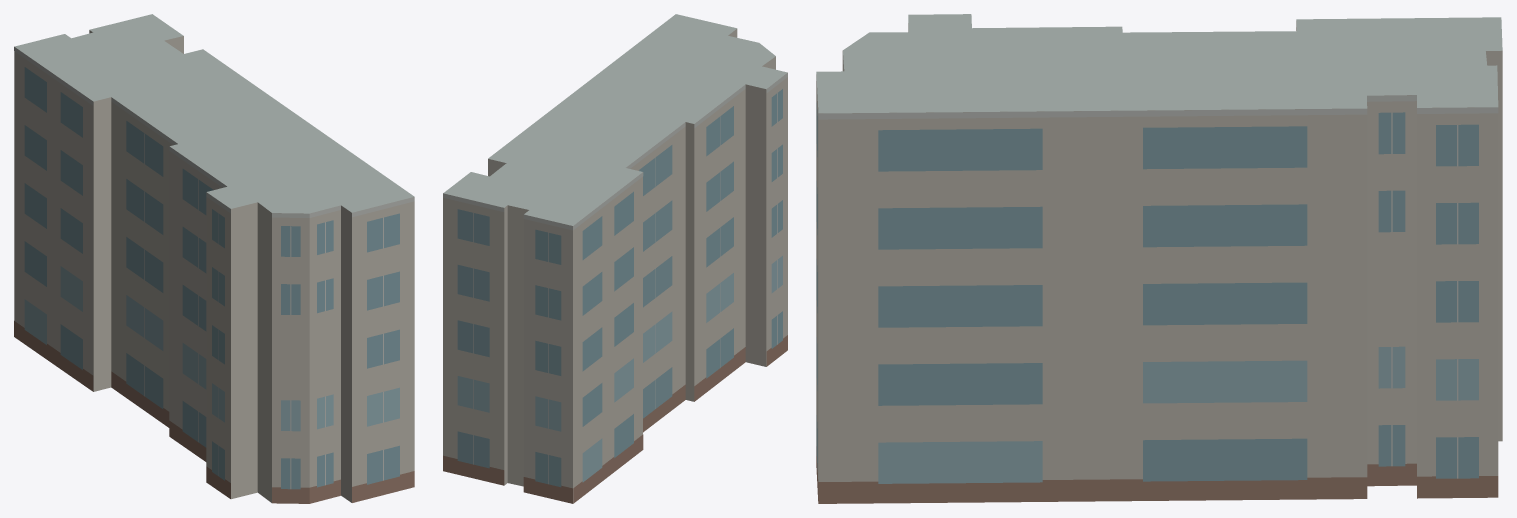
The model's file is survey-upis-32786430.glb.
The picture shows the model from 3 angles, left to right: view 1: azimuth 30°, elevation 25°; view 2: azimuth 150°, elevation 25°; view 3: azimuth 270°, elevation 25°; orthographic projection. The views are drawn at different scales.
Parts seen in each view (by area): view 1: survey-upis-32786430.tmp; view 2: survey-upis-32786430.tmp; view 3: survey-upis-32786430.tmp.
Boxes of the visible parts, bbox=[...] form: survey-upis-32786430.tmp: bbox=[14, 14, 414, 503]; survey-upis-32786430.tmp: bbox=[443, 14, 787, 503]; survey-upis-32786430.tmp: bbox=[816, 14, 1502, 503].
Bounding box in the file's own units: 8.47 × 15.5 × 24.7.
